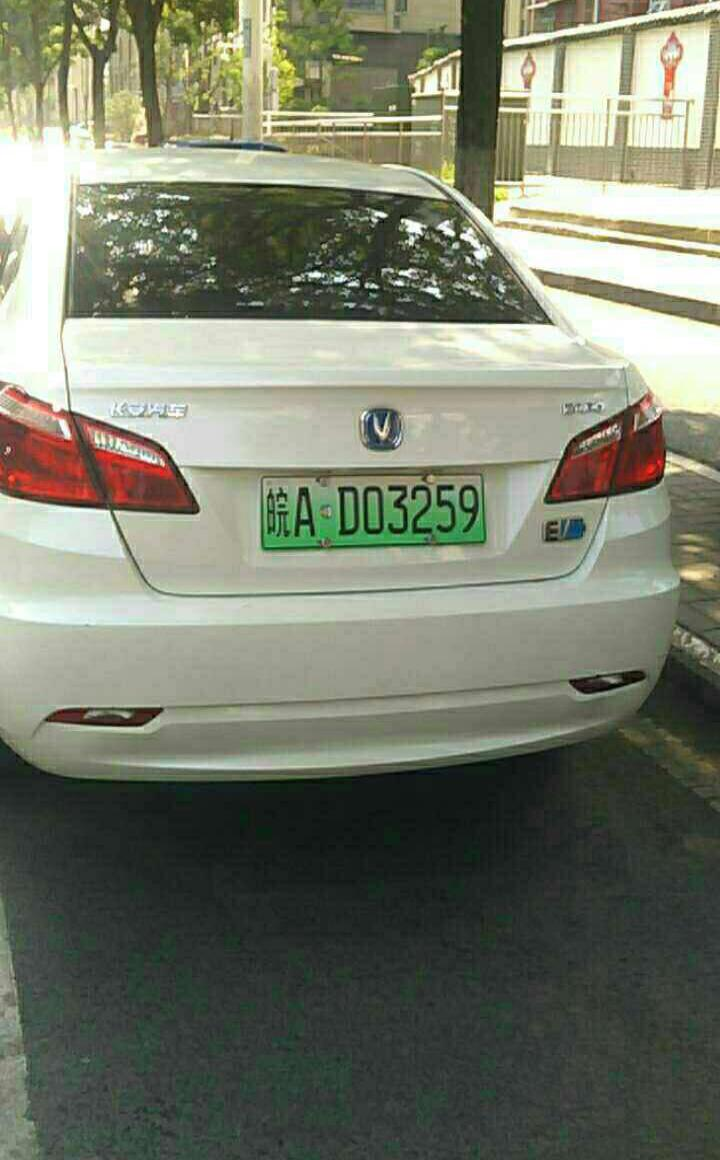car_id: (261, 474, 487, 550)
